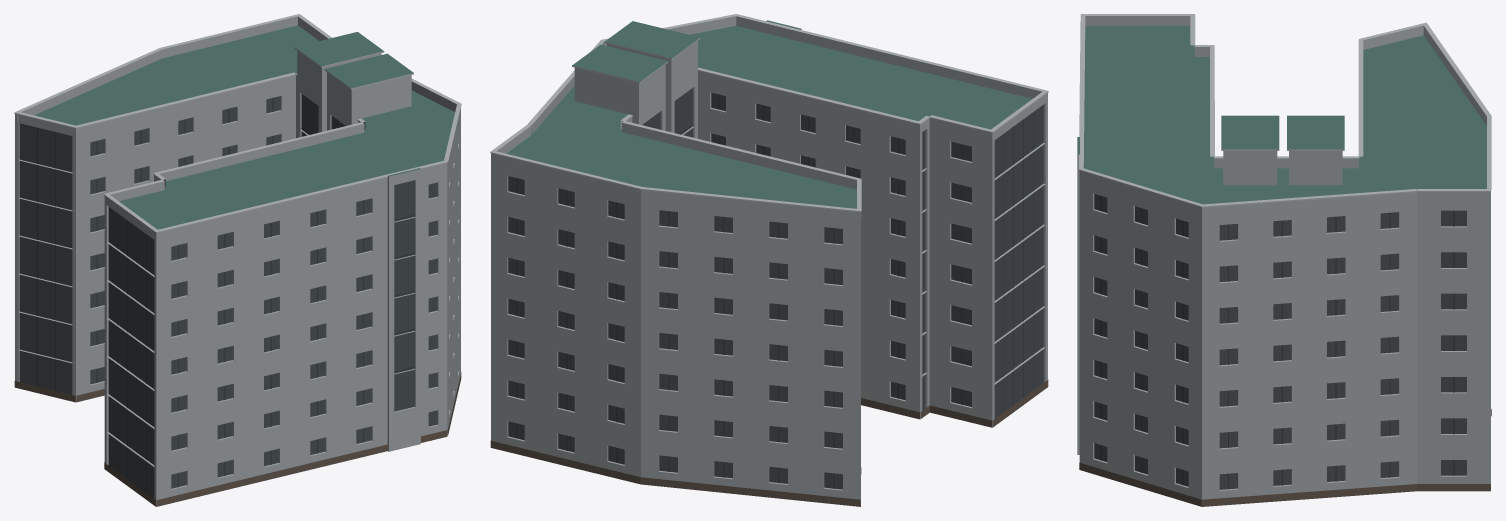
The picture shows the model from 3 angles, left to right: view 1: azimuth 30°, elevation 25°; view 2: azimuth 150°, elevation 25°; view 3: azimuth 270°, elevation 25°; orthographic projection. The views are drawn at different scales.
Parts seen in each view (by area): view 1: changui__wall, changui__glass, changui__roof, changui__parapet, changui__trim, changui__base, changui__frame; view 2: changui__wall, changui__glass, changui__roof, changui__parapet, changui__trim, changui__base, changui__frame; view 3: changui__wall, changui__roof, changui__glass, changui__parapet, changui__trim, changui__base, changui__frame.
Part boxes in pixels (<box>): changui__wall: <box>15,50,460,506</box>; changui__glass: <box>19,94,437,498</box>; changui__roof: <box>34,25,454,506</box>; changui__parapet: <box>15,16,460,240</box>; changui__trim: <box>14,14,461,233</box>; changui__base: <box>14,372,461,506</box>; changui__frame: <box>37,97,414,492</box>; changui__wall: <box>491,29,1047,506</box>; changui__glass: <box>508,88,1043,489</box>; changui__roof: <box>506,20,1031,208</box>; changui__parapet: <box>491,16,1047,220</box>; changui__trim: <box>490,14,1048,212</box>; changui__base: <box>490,379,1048,506</box>; changui__frame: <box>516,94,1033,488</box>; changui__wall: <box>1077,151,1490,506</box>; changui__roof: <box>1077,25,1486,204</box>; changui__glass: <box>1094,194,1466,489</box>; changui__parapet: <box>1079,16,1490,215</box>; changui__trim: <box>1079,14,1491,207</box>; changui__base: <box>1079,409,1491,506</box>; changui__frame: <box>1100,196,1454,489</box>.
Size of the model in its own units: 33.81 by 27.62 by 30.76.
